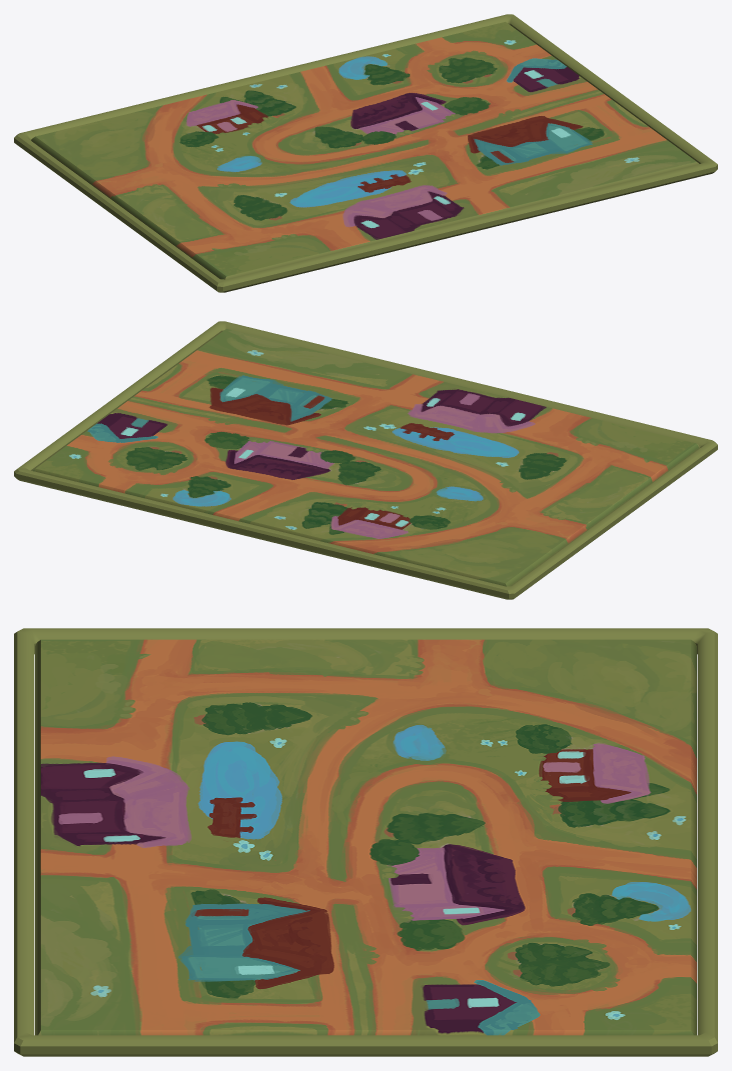
File: Playmat.fbx
The picture shows the model from 3 angles, top to bottom: view 1: azimuth 30°, elevation 25°; view 2: azimuth 150°, elevation 25°; view 3: azimuth 270°, elevation 25°; orthographic projection. The views are drawn at different scales.
Visible parts, largest first — view 1: Playmat; view 2: Playmat; view 3: Playmat.
Part boxes in pixels (x1=…): Playmat: x1=14, y1=14, x2=717, y2=292; Playmat: x1=14, y1=321, x2=717, y2=599; Playmat: x1=14, y1=628, x2=717, y2=1056.
Size of the model in its own units: 363 by 7.19 by 260.
